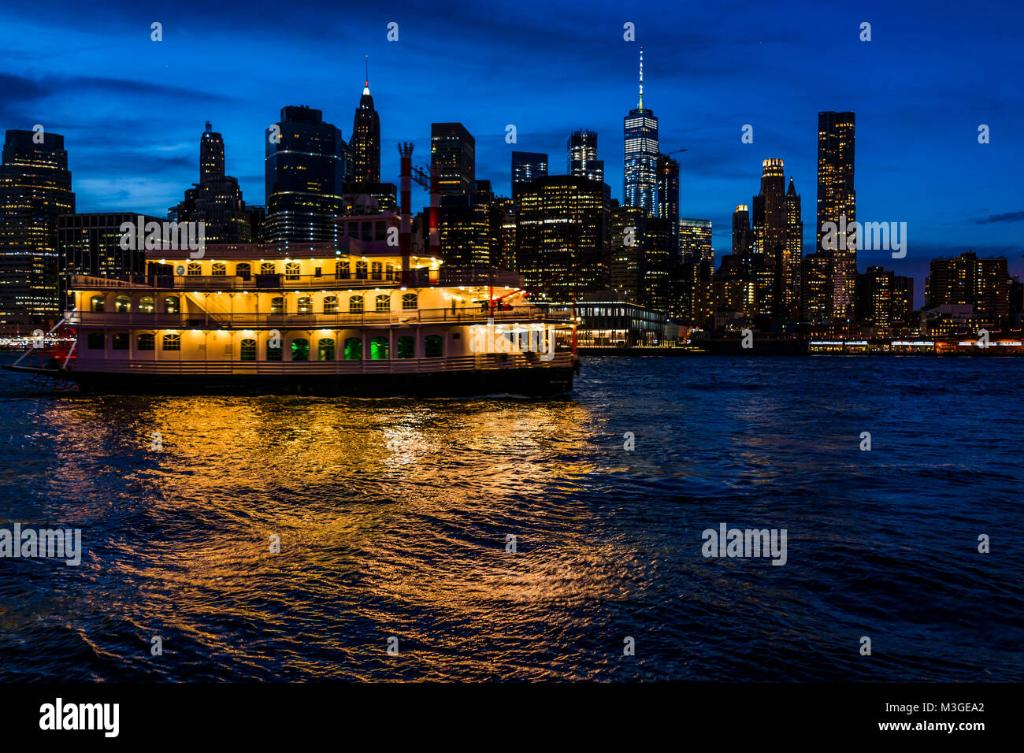PassengerShip: (24, 230, 598, 404)
